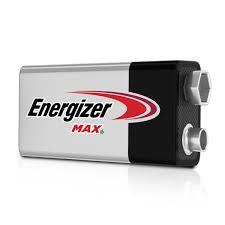9V: (15, 52, 213, 176)
